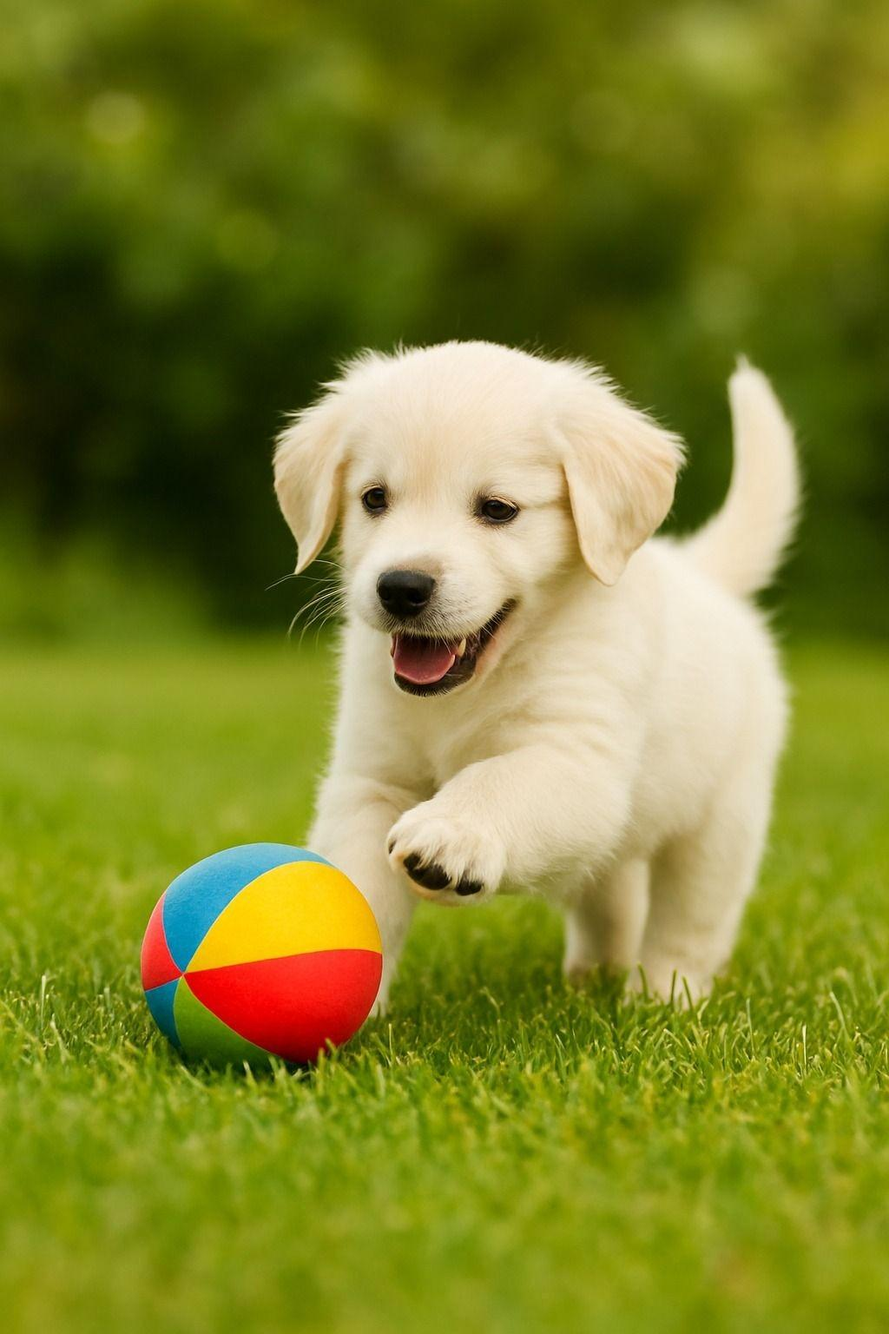non-dog: (137, 839, 385, 1071)
puppy-dog: (267, 334, 812, 1024)
